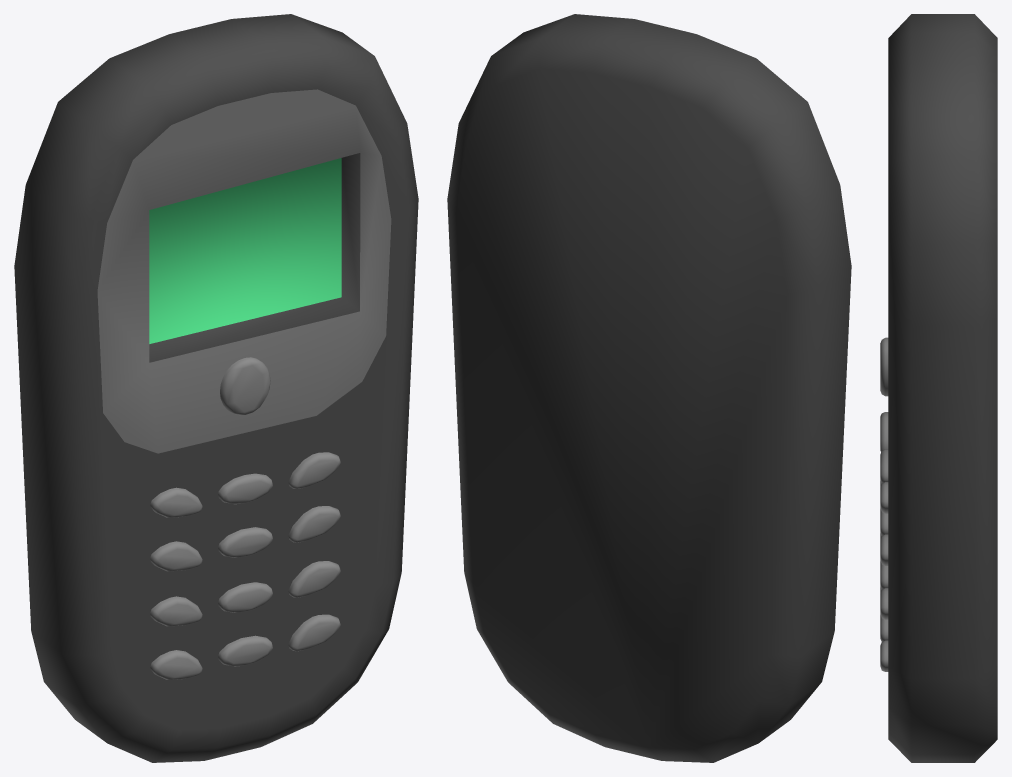
File: nokia phone.fbx
3 renders of one model, left to right at view 1: azimuth 30°, elevation 25°; view 2: azimuth 150°, elevation 25°; view 3: azimuth 270°, elevation 25°, orthographic. The views are drawn at different scales.
Visible parts, largest first — view 1: Phone, Keys; view 2: Phone; view 3: Phone, Keys.
Part boxes in pixels (x1=…): Phone: x1=14, y1=14, x2=418, y2=762; Keys: x1=150, y1=357, x2=340, y2=679; Phone: x1=447, y1=14, x2=851, y2=762; Phone: x1=888, y1=14, x2=997, y2=762; Keys: x1=880, y1=337, x2=888, y2=671.
Bounding box in the file's own units: 15.55 × 28.11 × 4.35.
